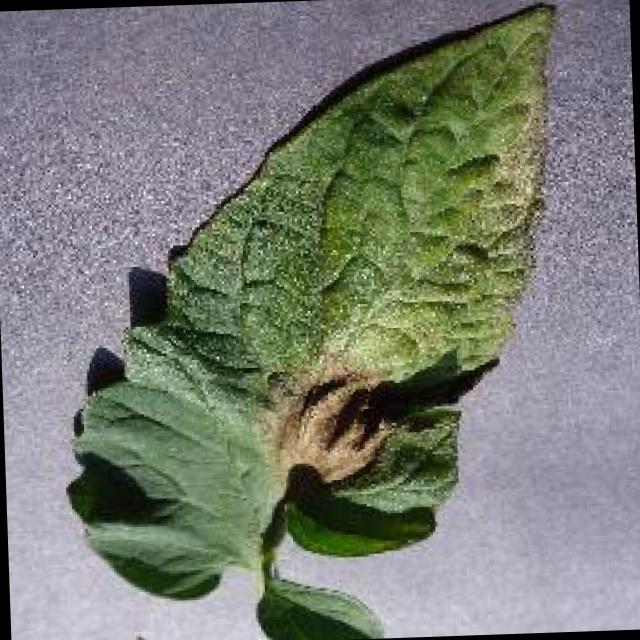Tomato_Late_Blight: (475, 27, 571, 284), (258, 344, 403, 494)
